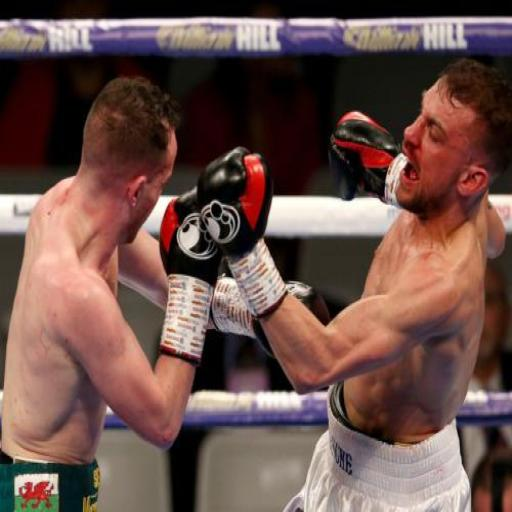boxing: (174, 57, 511, 511)
